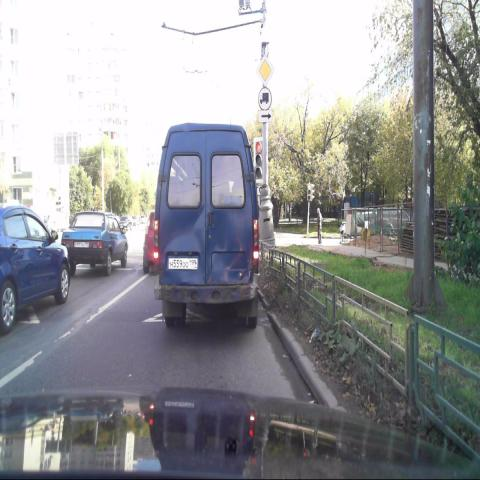3_4_1: (258, 88, 272, 112)
